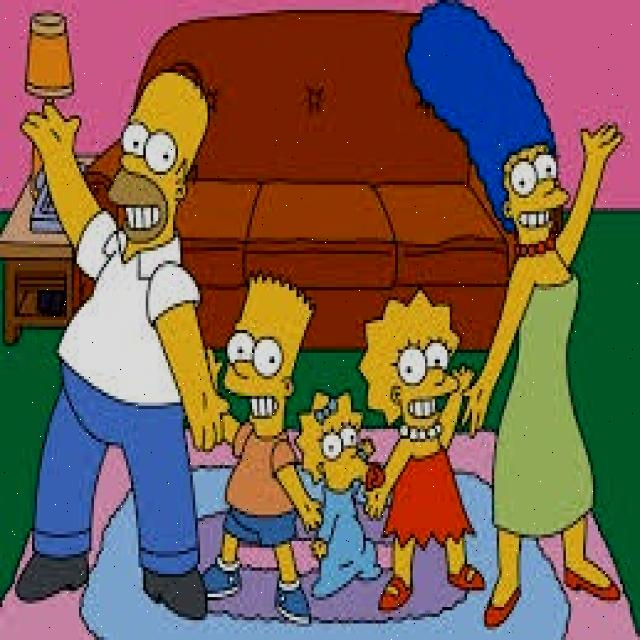Bart Simpson: (214, 268, 316, 446)
Homer Simpson: (98, 54, 218, 268)
Lisa Simpson: (353, 287, 467, 452)
Maggie Simpson: (286, 384, 391, 500)
Marge Simpson: (398, 0, 576, 267)
